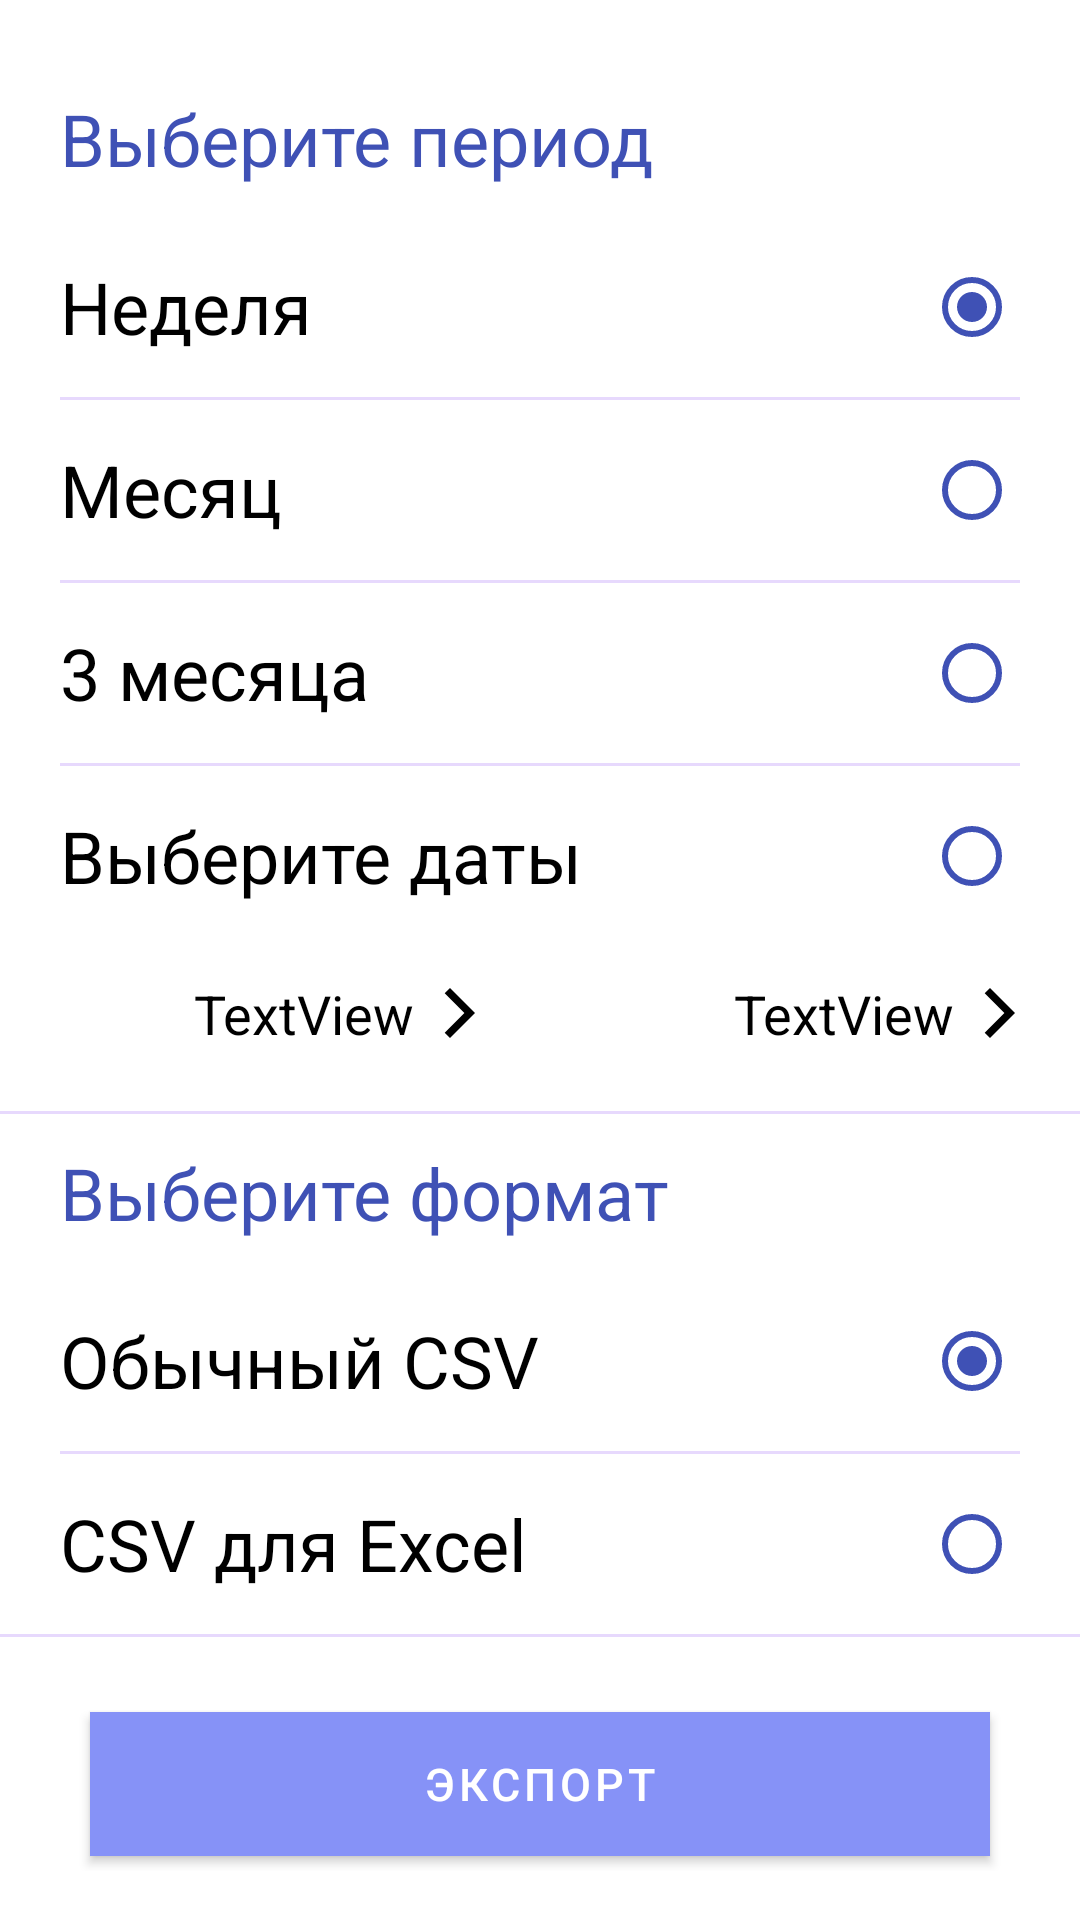

Named icons in this screenshot (1080x1920) and their centers, [x,y]:
arrow forward right: [460,1013], [1000,1013]
